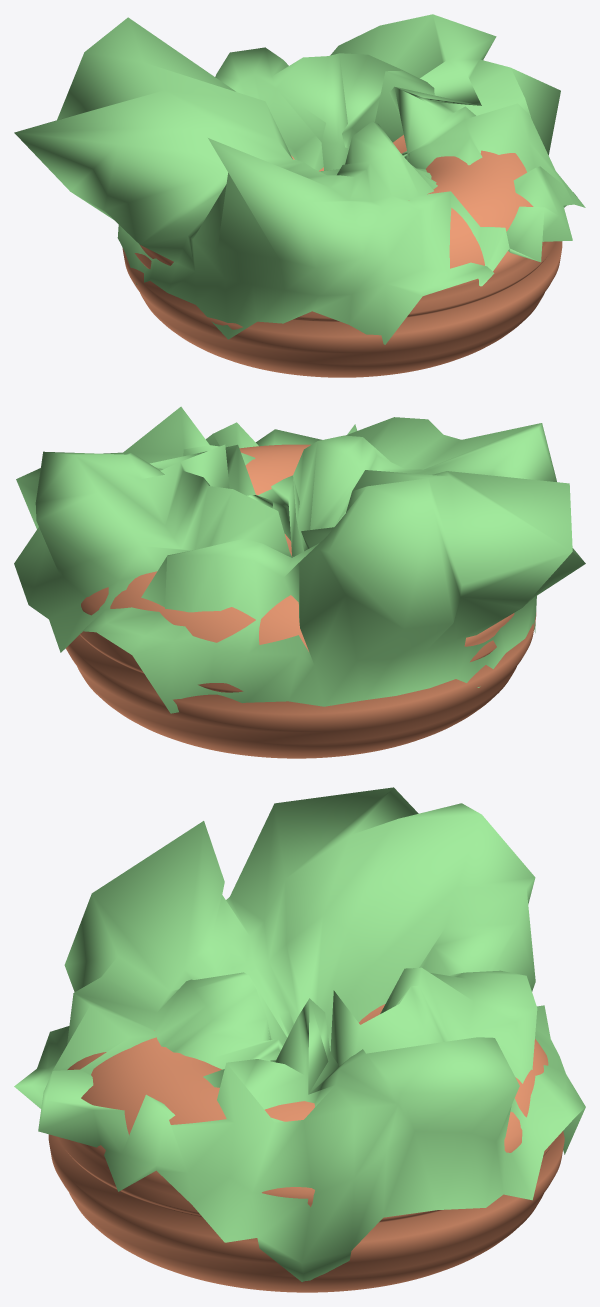
The model's file is donut.gltf.
3 views of the same model, one above another, from view 1: azimuth 30°, elevation 25°; view 2: azimuth 150°, elevation 25°; view 3: azimuth 270°, elevation 25° (orthographic). The views are drawn at different scales.
Parts seen in each view (by area): view 1: Icing, Donut; view 2: Icing, Donut; view 3: Icing, Donut.
Boxes of the visible parts, left/top/right/bottom form: Icing: left=14, top=14, right=585, bottom=344; Donut: left=122, top=135, right=562, bottom=377; Icing: left=14, top=406, right=585, bottom=713; Donut: left=66, top=444, right=536, bottom=758; Icing: left=14, top=787, right=585, bottom=1281; Donut: left=48, top=1004, right=564, bottom=1292.
Size of what is drawn, in the model's own units: 0.1345 by 0.0667 by 0.1072.
